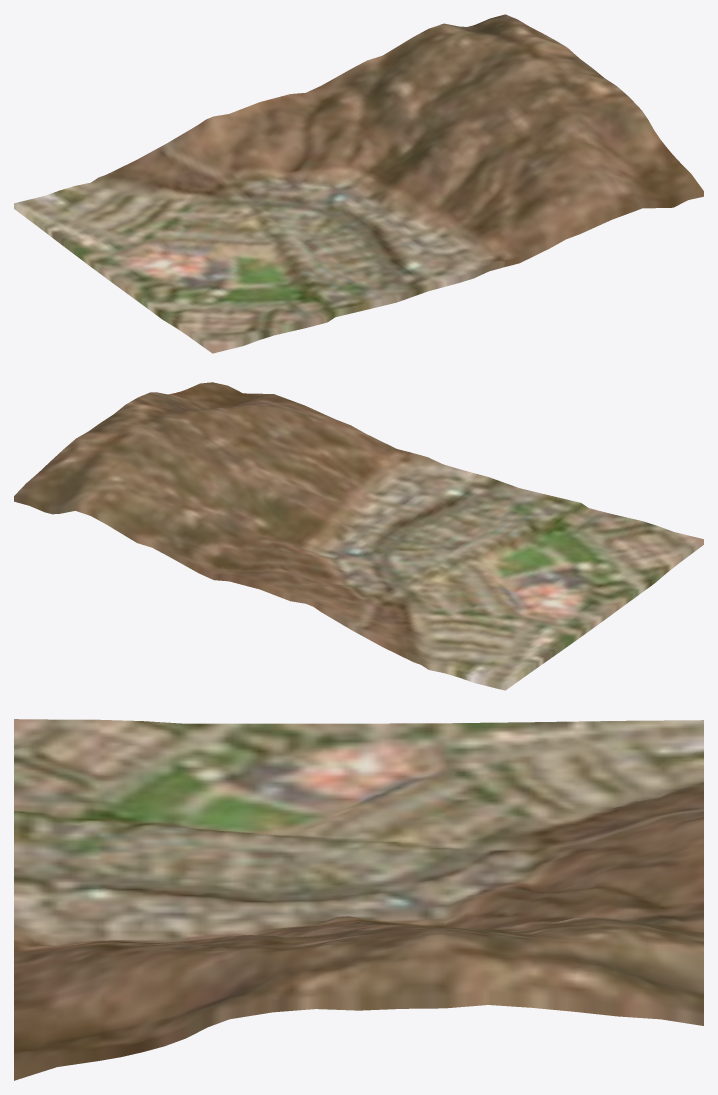
File: terrain_r2_c5_lod2.glb
3 renders of one model, top to bottom at view 1: azimuth 30°, elevation 25°; view 2: azimuth 150°, elevation 25°; view 3: azimuth 270°, elevation 25°, orthographic. The views are drawn at different scales.
Parts seen in each view (by area): view 1: terrain_r2_c5_lod2; view 2: terrain_r2_c5_lod2; view 3: terrain_r2_c5_lod2.
Part boxes in pixels (x1,y1,x2,y2): terrain_r2_c5_lod2: (14, 14, 703, 353); terrain_r2_c5_lod2: (14, 382, 703, 690); terrain_r2_c5_lod2: (14, 719, 703, 1080).
Size of the model in its own units: 1125 by 212 by 787.
Materials: 1 (1 with a texture image).
